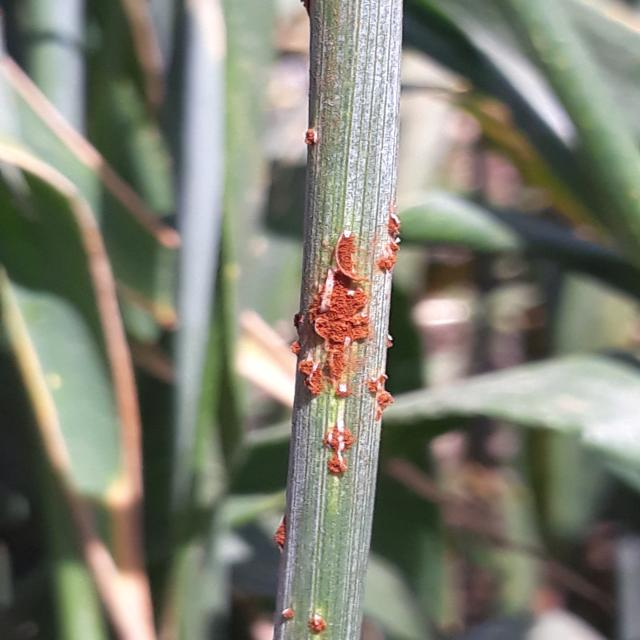black_stem_rust: (265, 0, 434, 640)
